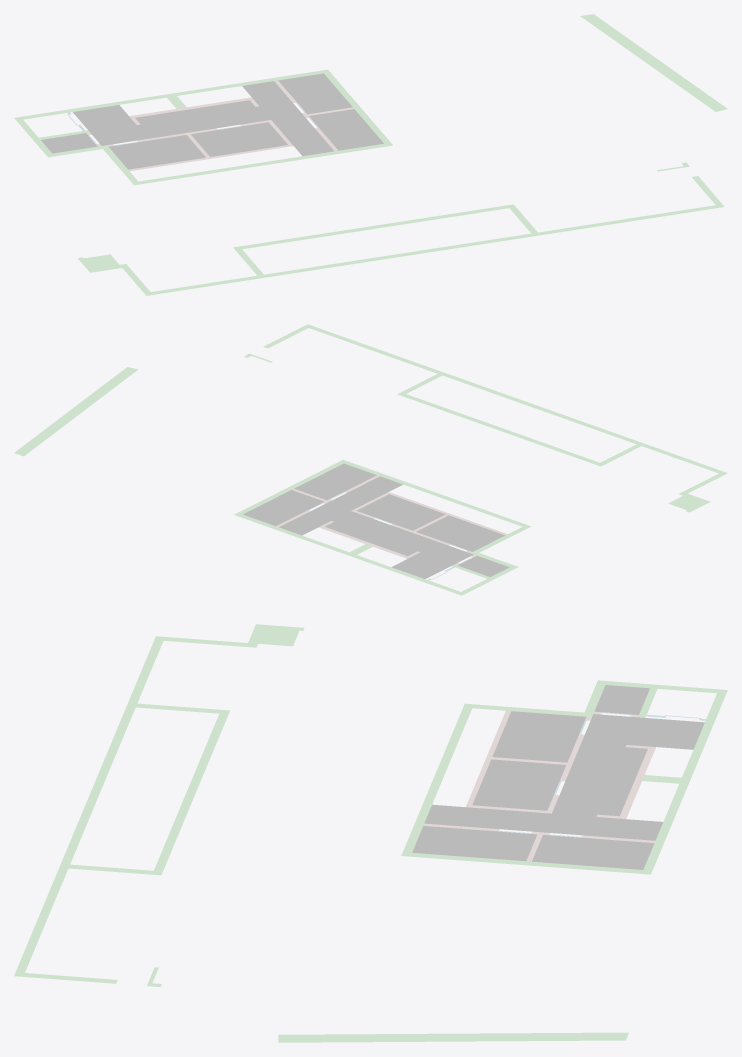
The model's file is floor-492250.glb.
The picture shows the model from 3 angles, top to bottom: view 1: azimuth 30°, elevation 25°; view 2: azimuth 150°, elevation 25°; view 3: azimuth 270°, elevation 25°; orthographic projection. The views are drawn at different scales.
Parts seen in each view (by area): view 1: SectionBody_56,d8938ba9-1408-46d0-8d26-ec291ab291a2, SectionBody_47,54f77693-ed38-455d-924d-131b2d241f34, SectionBody_52,a129953a-5615-4086-8058-d987586a3560, SectionBody_28,fcdd2191-21df-4166-8365-80c6cc127b71, SectionBody_8,5e9910b8-ef5e-4b7b-a94d-14f158ee2309, SectionBody_55,9a3dd0fe-940e-4f4b-a955-e41f648d4713, SectionBody_50,739839fe-582c-46f9-984d-6acb4318c601, SectionBody_39,3d508e53-df0b-4478-9011-aae60bf769f3, SectionBody_54,4cef6a23-a4a2-4ec9-b2fb-d551e5929b31, SectionBody_42,898e0191-f130-4191-be65-129fb487e694, SectionBody_53,20856df9-3a90-4011-bfa3-dbb28b31c4b3, SectionBody_18,de5a4e02-6c36-4d39-853e-234da34614a0; view 2: SectionBody_56,d8938ba9-1408-46d0-8d26-ec291ab291a2, SectionBody_47,54f77693-ed38-455d-924d-131b2d241f34, SectionBody_52,a129953a-5615-4086-8058-d987586a3560, SectionBody_28,fcdd2191-21df-4166-8365-80c6cc127b71, SectionBody_8,5e9910b8-ef5e-4b7b-a94d-14f158ee2309, SectionBody_55,9a3dd0fe-940e-4f4b-a955-e41f648d4713, SectionBody_50,739839fe-582c-46f9-984d-6acb4318c601, SectionBody_39,3d508e53-df0b-4478-9011-aae60bf769f3, SectionBody_54,4cef6a23-a4a2-4ec9-b2fb-d551e5929b31, SectionBody_42,898e0191-f130-4191-be65-129fb487e694, SectionBody_53,20856df9-3a90-4011-bfa3-dbb28b31c4b3, SectionBody_18,de5a4e02-6c36-4d39-853e-234da34614a0; view 3: SectionBody_56,d8938ba9-1408-46d0-8d26-ec291ab291a2, SectionBody_28,fcdd2191-21df-4166-8365-80c6cc127b71, SectionBody_52,a129953a-5615-4086-8058-d987586a3560, SectionBody_47,54f77693-ed38-455d-924d-131b2d241f34, SectionBody_8,5e9910b8-ef5e-4b7b-a94d-14f158ee2309, SectionBody_55,9a3dd0fe-940e-4f4b-a955-e41f648d4713, SectionBody_50,739839fe-582c-46f9-984d-6acb4318c601, SectionBody_39,3d508e53-df0b-4478-9011-aae60bf769f3, SectionBody_54,4cef6a23-a4a2-4ec9-b2fb-d551e5929b31, SectionBody_42,898e0191-f130-4191-be65-129fb487e694, SectionBody_53,20856df9-3a90-4011-bfa3-dbb28b31c4b3, SectionBody_18,de5a4e02-6c36-4d39-853e-234da34614a0.
Boxes of the visible parts, x1,y1,x2,y2 form: SectionBody_56,d8938ba9-1408-46d0-8d26-ec291ab291a2: [73, 81, 333, 156]; SectionBody_47,54f77693-ed38-455d-924d-131b2d241f34: [144, 204, 724, 295]; SectionBody_52,a129953a-5615-4086-8058-d987586a3560: [191, 122, 287, 156]; SectionBody_28,fcdd2191-21df-4166-8365-80c6cc127b71: [109, 135, 205, 169]; SectionBody_8,5e9910b8-ef5e-4b7b-a94d-14f158ee2309: [309, 109, 383, 150]; SectionBody_55,9a3dd0fe-940e-4f4b-a955-e41f648d4713: [278, 73, 352, 114]; SectionBody_50,739839fe-582c-46f9-984d-6acb4318c601: [580, 14, 727, 111]; SectionBody_39,3d508e53-df0b-4478-9011-aae60bf769f3: [14, 69, 329, 120]; SectionBody_54,4cef6a23-a4a2-4ec9-b2fb-d551e5929b31: [240, 205, 508, 249]; SectionBody_42,898e0191-f130-4191-be65-129fb487e694: [138, 143, 386, 184]; SectionBody_53,20856df9-3a90-4011-bfa3-dbb28b31c4b3: [41, 133, 97, 153]; SectionBody_18,de5a4e02-6c36-4d39-853e-234da34614a0: [324, 72, 392, 146]; SectionBody_56,d8938ba9-1408-46d0-8d26-ec291ab291a2: [279, 476, 473, 578]; SectionBody_47,54f77693-ed38-455d-924d-131b2d241f34: [304, 324, 727, 474]; SectionBody_52,a129953a-5615-4086-8058-d987586a3560: [356, 494, 445, 530]; SectionBody_28,fcdd2191-21df-4166-8365-80c6cc127b71: [416, 515, 504, 551]; SectionBody_8,5e9910b8-ef5e-4b7b-a94d-14f158ee2309: [294, 463, 376, 500]; SectionBody_55,9a3dd0fe-940e-4f4b-a955-e41f648d4713: [243, 490, 324, 525]; SectionBody_50,739839fe-582c-46f9-984d-6acb4318c601: [14, 367, 138, 456]; SectionBody_39,3d508e53-df0b-4478-9011-aae60bf769f3: [234, 513, 465, 595]; SectionBody_54,4cef6a23-a4a2-4ec9-b2fb-d551e5929b31: [402, 394, 599, 464]; SectionBody_42,898e0191-f130-4191-be65-129fb487e694: [344, 461, 526, 526]; SectionBody_53,20856df9-3a90-4011-bfa3-dbb28b31c4b3: [457, 556, 509, 576]; SectionBody_18,de5a4e02-6c36-4d39-853e-234da34614a0: [238, 459, 347, 514]; SectionBody_56,d8938ba9-1408-46d0-8d26-ec291ab291a2: [424, 714, 704, 840]; SectionBody_28,fcdd2191-21df-4166-8365-80c6cc127b71: [492, 711, 586, 762]; SectionBody_52,a129953a-5615-4086-8058-d987586a3560: [472, 759, 566, 810]; SectionBody_47,54f77693-ed38-455d-924d-131b2d241f34: [14, 636, 164, 976]; SectionBody_8,5e9910b8-ef5e-4b7b-a94d-14f158ee2309: [412, 826, 537, 861]; SectionBody_55,9a3dd0fe-940e-4f4b-a955-e41f648d4713: [532, 835, 654, 869]; SectionBody_50,739839fe-582c-46f9-984d-6acb4318c601: [278, 1032, 628, 1042]; SectionBody_39,3d508e53-df0b-4478-9011-aae60bf769f3: [642, 689, 727, 874]; SectionBody_54,4cef6a23-a4a2-4ec9-b2fb-d551e5929b31: [154, 713, 228, 871]; SectionBody_42,898e0191-f130-4191-be65-129fb487e694: [403, 707, 472, 852]; SectionBody_53,20856df9-3a90-4011-bfa3-dbb28b31c4b3: [594, 685, 649, 714]; SectionBody_18,de5a4e02-6c36-4d39-853e-234da34614a0: [401, 852, 642, 873].
Size of the model in its own units: 26237 by 0 by 18915.
